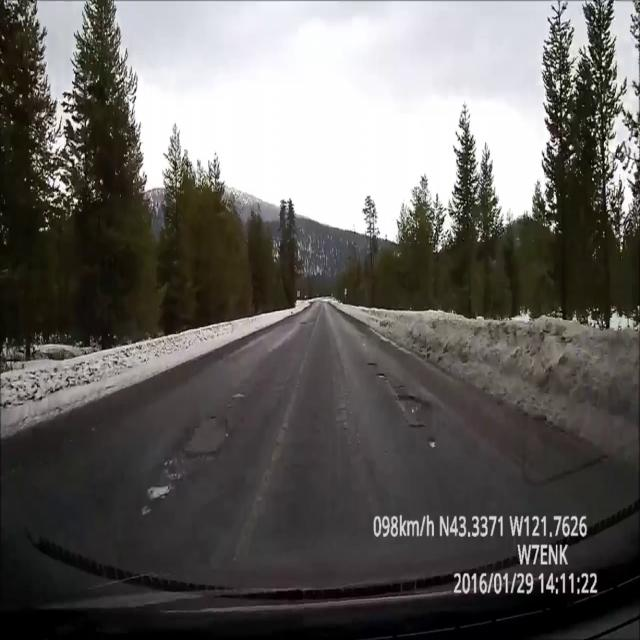Pothole: (184, 412, 232, 457), (397, 394, 427, 412), (375, 371, 388, 380), (366, 362, 377, 366), (299, 322, 307, 324)
